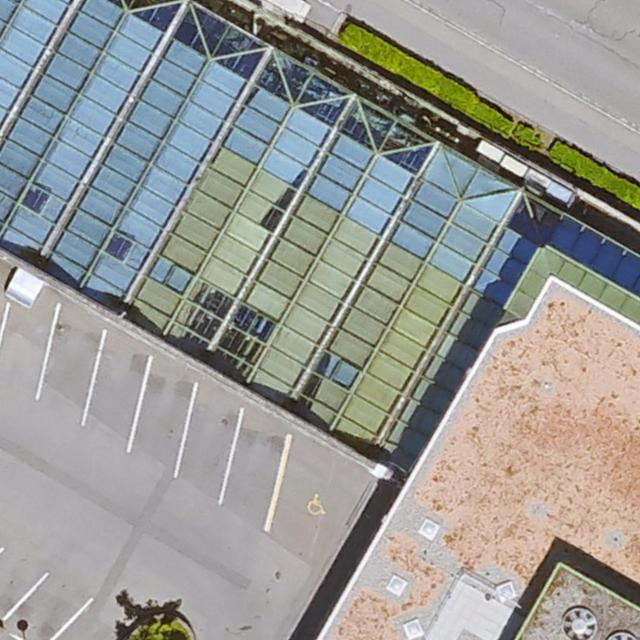tree: (121, 618, 195, 640)
